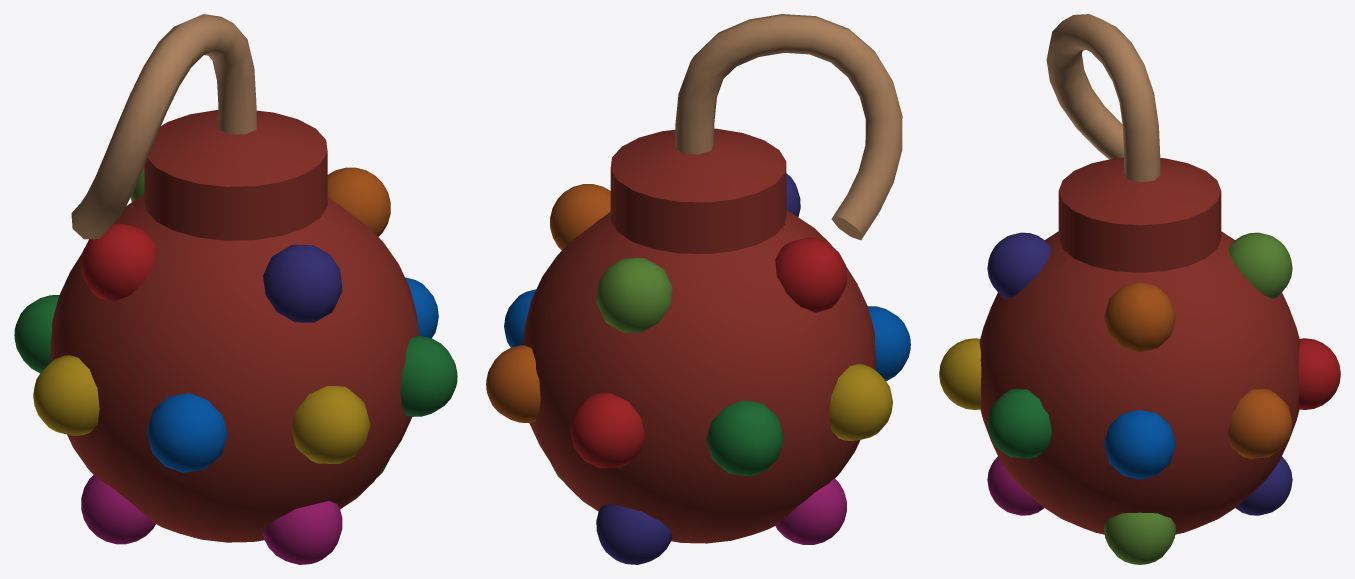
The model's file is bomb.fbx.
The picture shows the model from 3 angles, left to right: view 1: azimuth 30°, elevation 25°; view 2: azimuth 150°, elevation 25°; view 3: azimuth 270°, elevation 25°; orthographic projection. The views are drawn at different scales.
Parts seen in each view (by area): view 1: bomb, sweep, shrapnel2, shrapnel10, shrapnel0, shrapnel8, shrapnel12, shrapnel5, shrapnel7, shrapnel6, shrapnel14, shrapnel9 (+1 smaller); view 2: bomb, sweep, shrapnel9, shrapnel15, shrapnel3, shrapnel8, shrapnel12, shrapnel4, shrapnel13, shrapnel6, shrapnel14, shrapnel2 (+1 smaller); view 3: bomb, sweep, shrapnel14, shrapnel1, shrapnel7, shrapnel13, shrapnel11, shrapnel10, shrapnel15, shrapnel0, shrapnel3, shrapnel4 (+1 smaller).
Part boxes in pixels (left/top/right/bottom): bomb: left=50, top=110, right=419, bottom=542; sweep: left=71, top=14, right=256, bottom=239; shrapnel2: left=146, top=393, right=227, bottom=472; shrapnel10: left=263, top=244, right=342, bottom=322; shrapnel0: left=291, top=386, right=370, bottom=463; shrapnel8: left=81, top=223, right=155, bottom=301; shrapnel12: left=33, top=355, right=99, bottom=435; shrapnel5: left=263, top=501, right=342, bottom=564; shrapnel7: left=400, top=336, right=457, bottom=416; shrapnel6: left=81, top=474, right=155, bottom=544; shrapnel14: left=327, top=167, right=390, bottom=236; shrapnel9: left=14, top=295, right=59, bottom=373; bomb: left=522, top=128, right=876, bottom=543; sweep: left=675, top=14, right=902, bottom=240; shrapnel9: left=706, top=400, right=783, bottom=476; shrapnel15: left=596, top=258, right=672, bottom=332; shrapnel3: left=569, top=393, right=644, bottom=468; shrapnel8: left=775, top=237, right=846, bottom=312; shrapnel12: left=829, top=364, right=892, bottom=441; shrapnel4: left=596, top=503, right=672, bottom=564; shrapnel13: left=486, top=345, right=540, bottom=422; shrapnel6: left=775, top=478, right=846, bottom=544; shrapnel14: left=550, top=184, right=610, bottom=250; shrapnel2: left=868, top=306, right=910, bottom=381; bomb: left=979, top=157, right=1300, bottom=534; sweep: left=1046, top=14, right=1160, bottom=182; shrapnel14: left=1104, top=282, right=1175, bottom=352; shrapnel1: left=1104, top=410, right=1175, bottom=479; shrapnel7: left=987, top=388, right=1051, bottom=458; shrapnel13: left=1228, top=388, right=1292, bottom=458; shrapnel11: left=1104, top=512, right=1175, bottom=564; shrapnel10: left=987, top=232, right=1051, bottom=298; shrapnel15: left=1228, top=232, right=1292, bottom=298; shrapnel0: left=939, top=338, right=981, bottom=409; shrapnel3: left=1298, top=338, right=1340, bottom=409; shrapnel4: left=1235, top=456, right=1292, bottom=515.
Size of the model in its own units: 70.51 by 91.23 by 70.51.
1 material, 1 textured.
